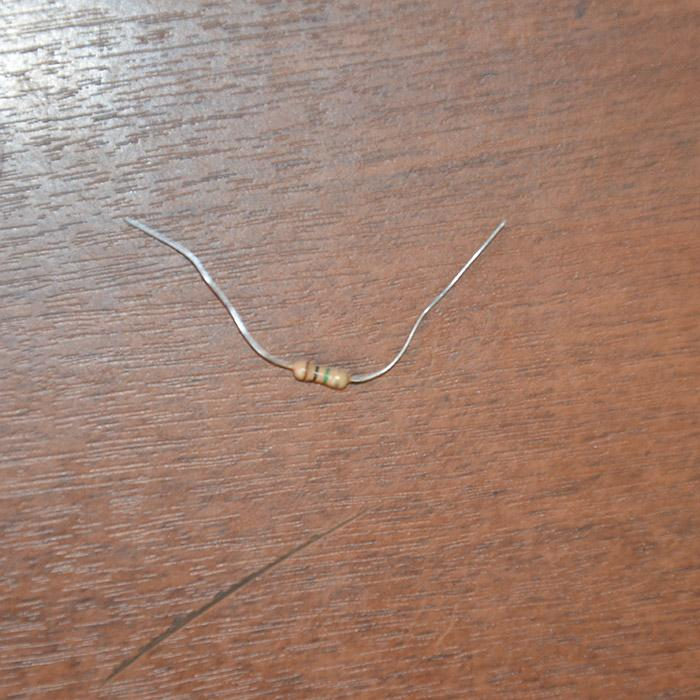resistor: (290, 358, 351, 389)
